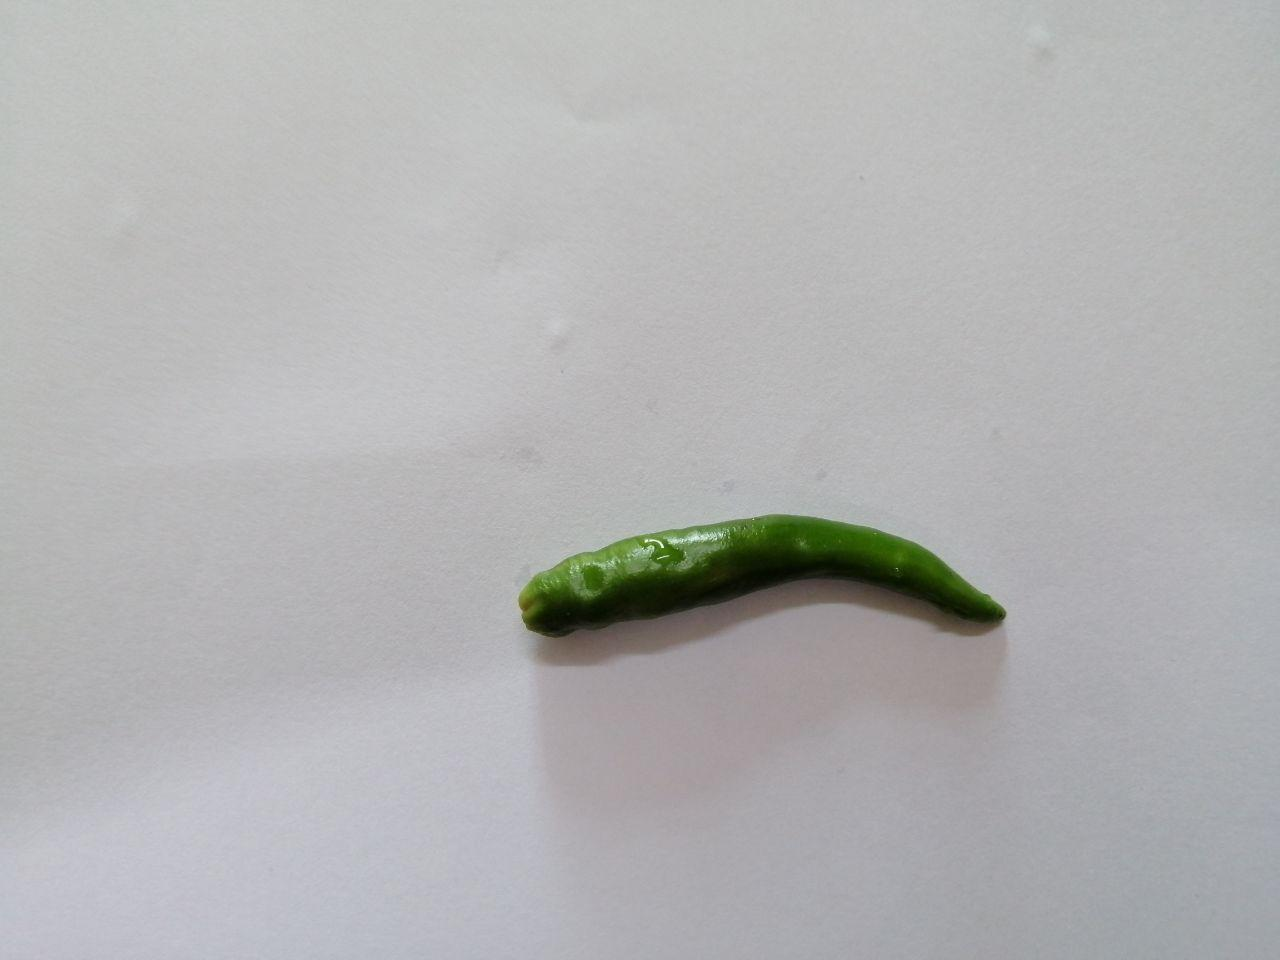lada hijau: (494, 487, 1040, 681)
